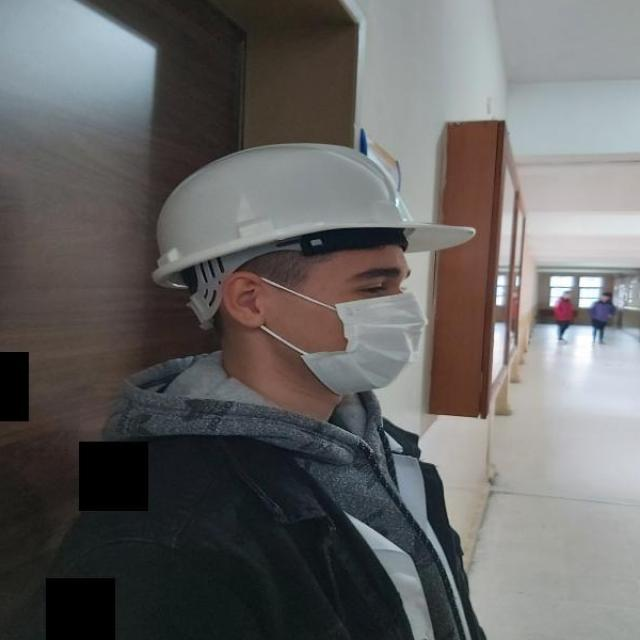helmet: (139, 100, 535, 316)
